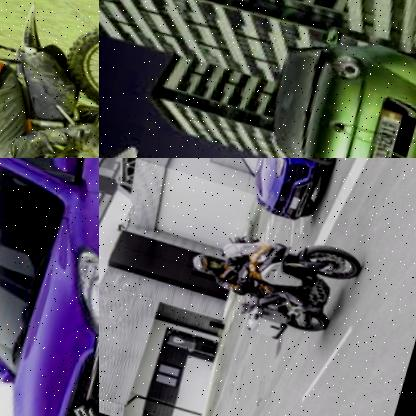bike: (214, 216, 376, 354)
car: (242, 7, 416, 158), (0, 158, 99, 416), (221, 158, 351, 222)
